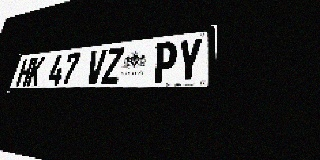4: (46, 54, 67, 86)
7: (60, 52, 81, 85)
H: (15, 58, 34, 87)
K: (26, 56, 46, 86)
P: (151, 41, 178, 83)
V: (84, 49, 107, 85)
Y: (175, 38, 203, 82)
Z: (101, 47, 125, 84)
